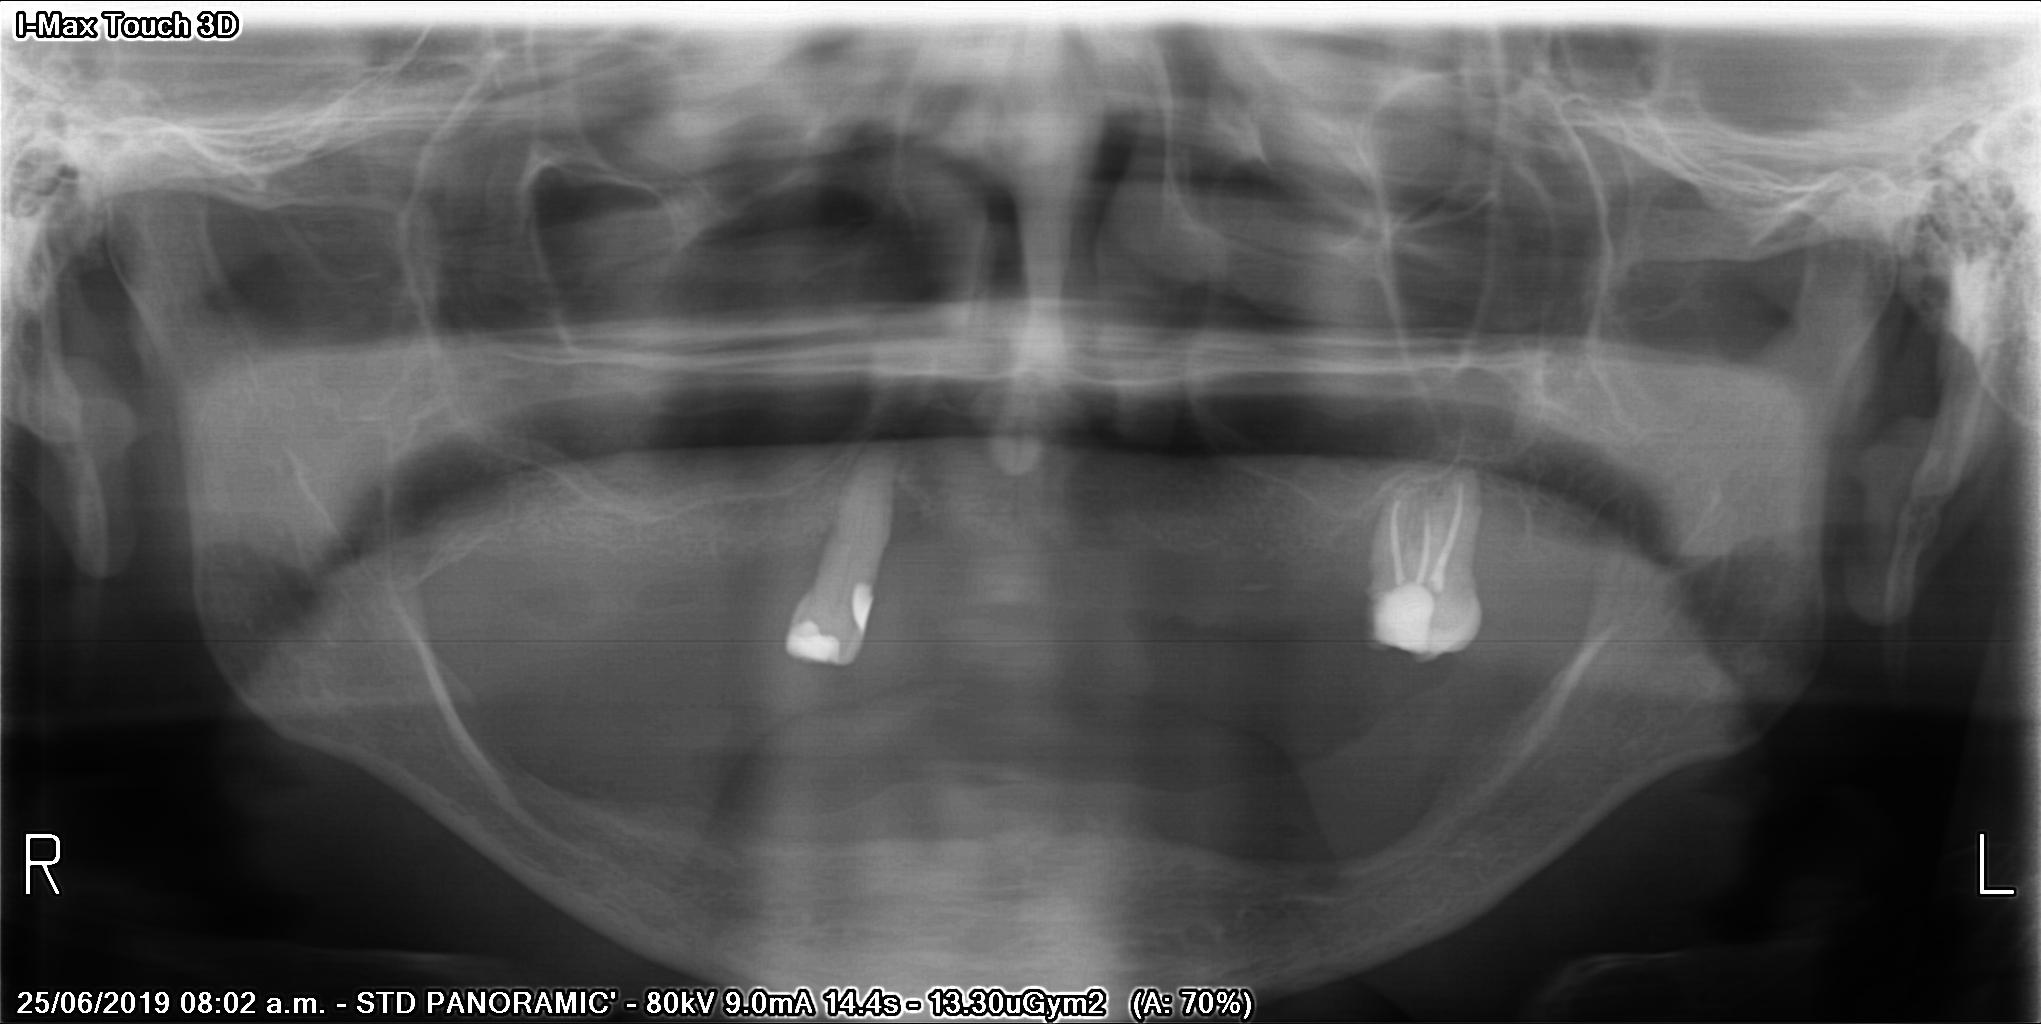Çürük: (1370, 583, 1450, 652), (780, 610, 852, 676), (843, 566, 884, 638)
